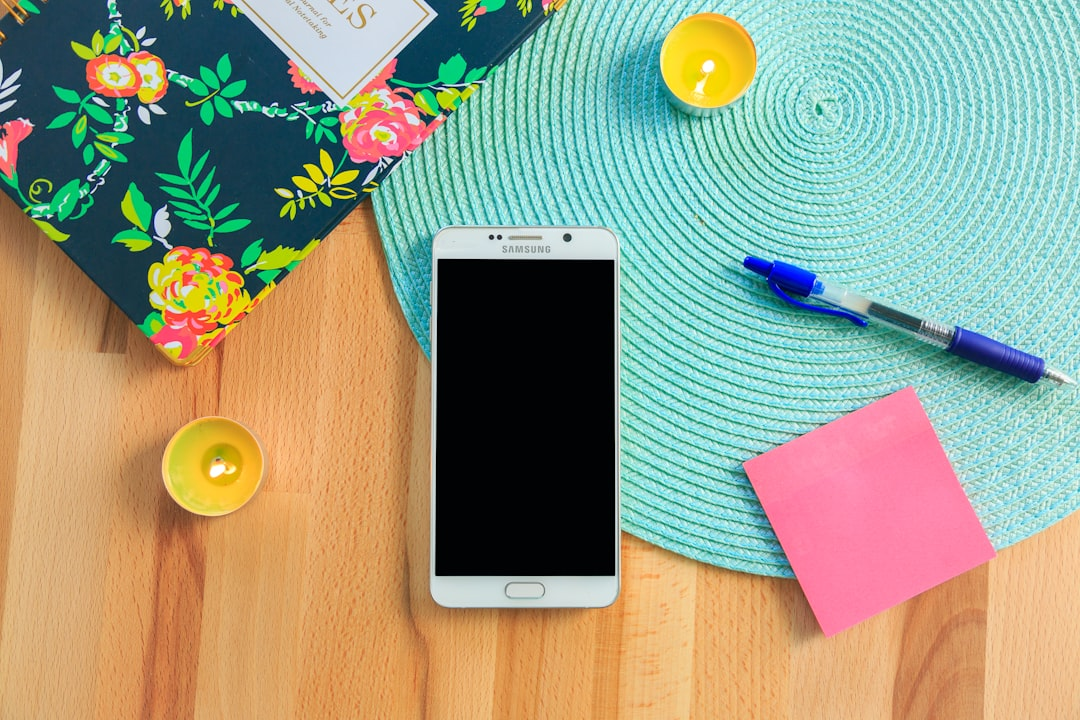phone: (427, 227, 622, 610)
